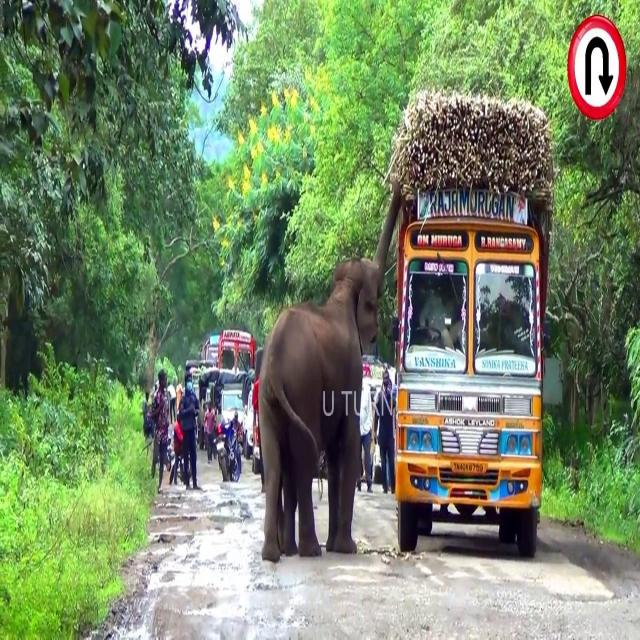Elephant: (258, 175, 402, 565)
